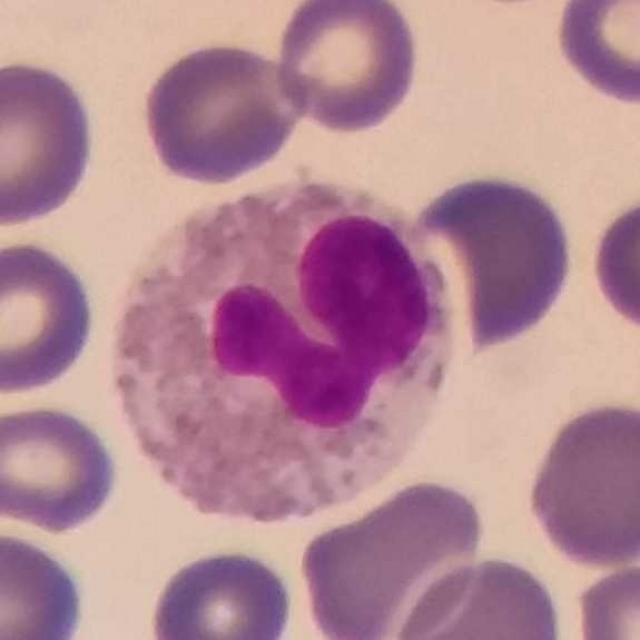eosino: (112, 176, 462, 526)
